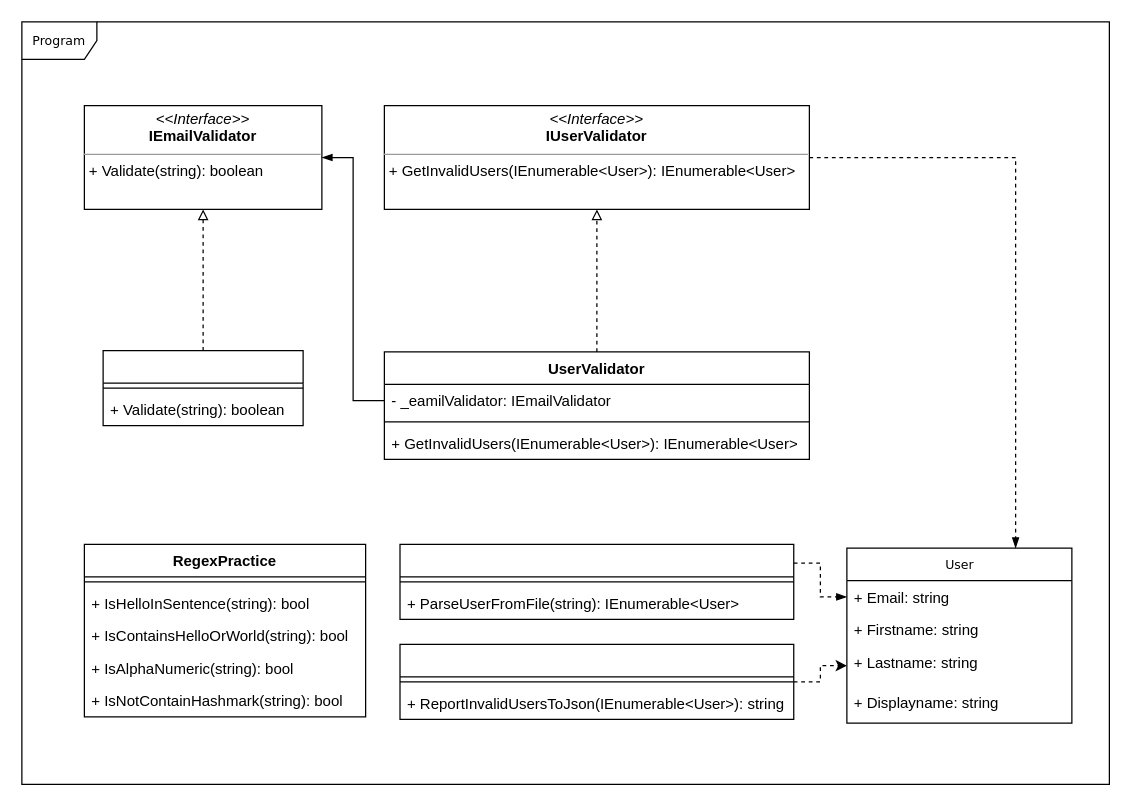
This 1131x806 diagram has some shape labels left out. The shapes that lost their labels are listed below. From the top down, each one's box as (x1, y1, x2, y2) in pixels, then its label:
(102, 349, 303, 426): EmailValidator
(399, 543, 794, 619): FileParser
(399, 643, 794, 719): UserReporter
